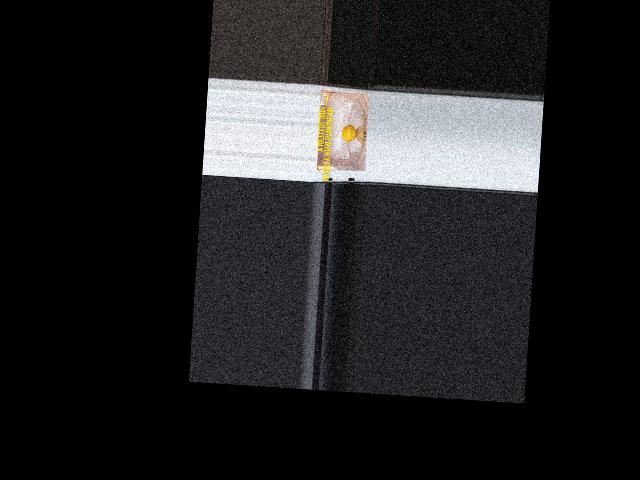lemon: (339, 123, 359, 150)
